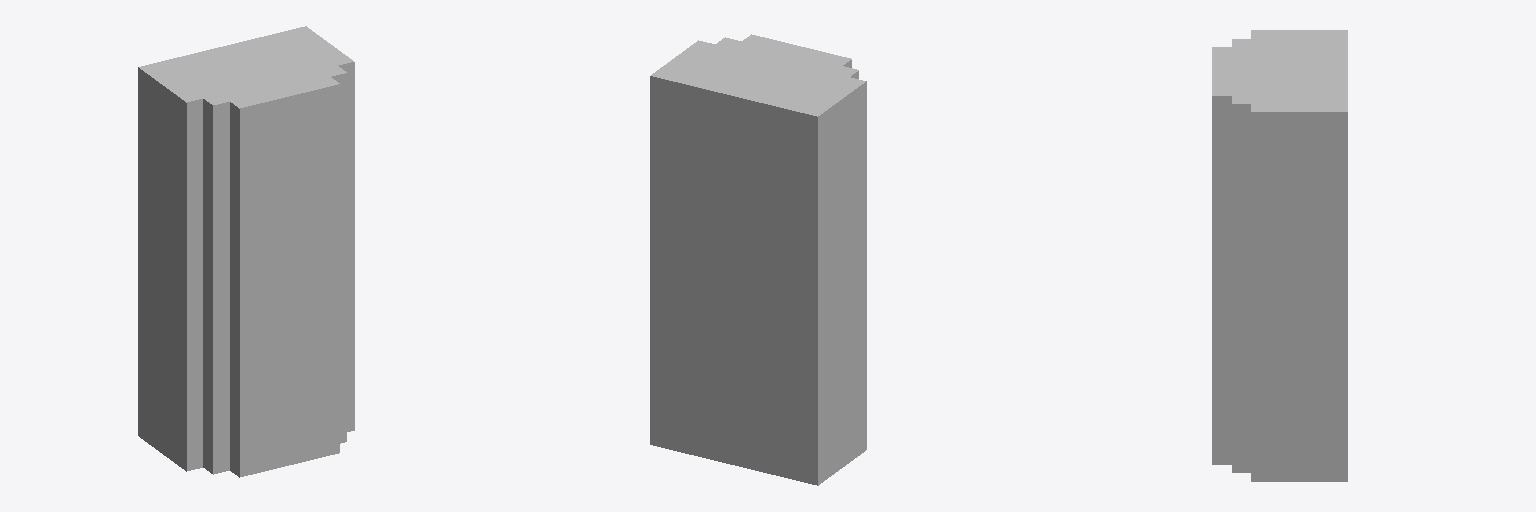
3 views of the same model, side by side, from view 1: azimuth 30°, elevation 25°; view 2: azimuth 150°, elevation 25°; view 3: azimuth 270°, elevation 25° (orthographic).
Parts seen in each view (by area): view 1: object 1; view 2: object 1; view 3: object 1.
Part boxes in pixels (left/top/right/bottom): object 1: left=138, top=26, right=354, bottom=477; object 1: left=650, top=34, right=866, bottom=485; object 1: left=1212, top=30, right=1347, bottom=481.
Bounding box in the file's own units: 1 × 2.1 × 0.7.
1 materials, 1 textured.